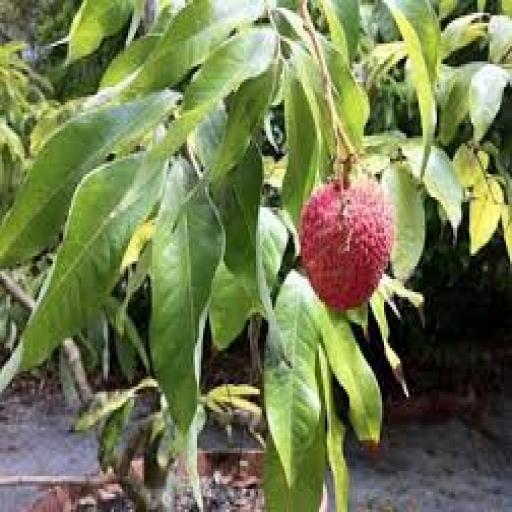lychee: (299, 177, 394, 309)
